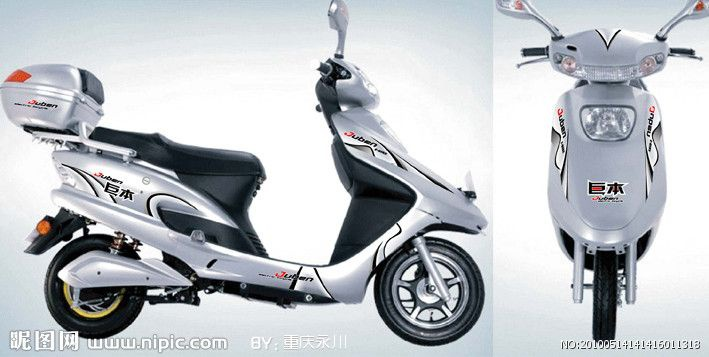non-vehicle: (3, 1, 490, 348), (491, 2, 706, 345)
